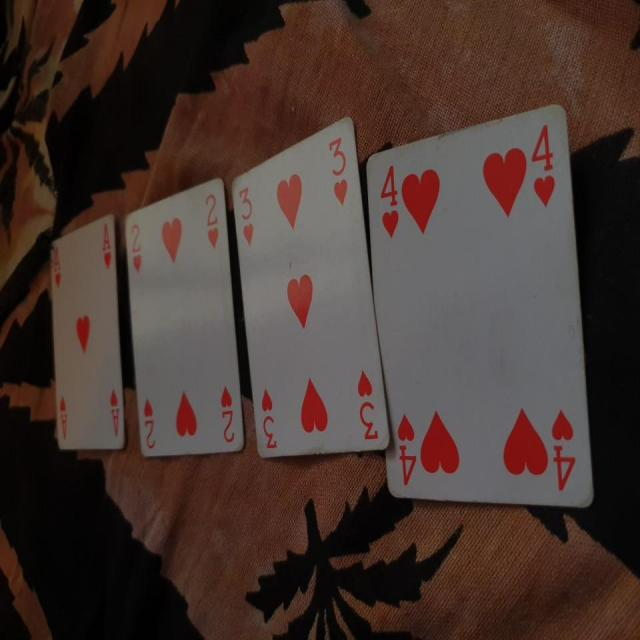2 Hearts: (122, 175, 236, 485)
3 Hearts: (233, 106, 394, 476)
4 Hearts: (372, 101, 602, 514)
A Hearts: (40, 201, 129, 456)
